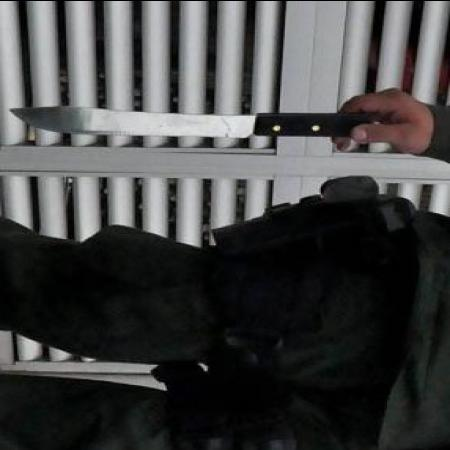long weapon: (3, 82, 412, 148)
